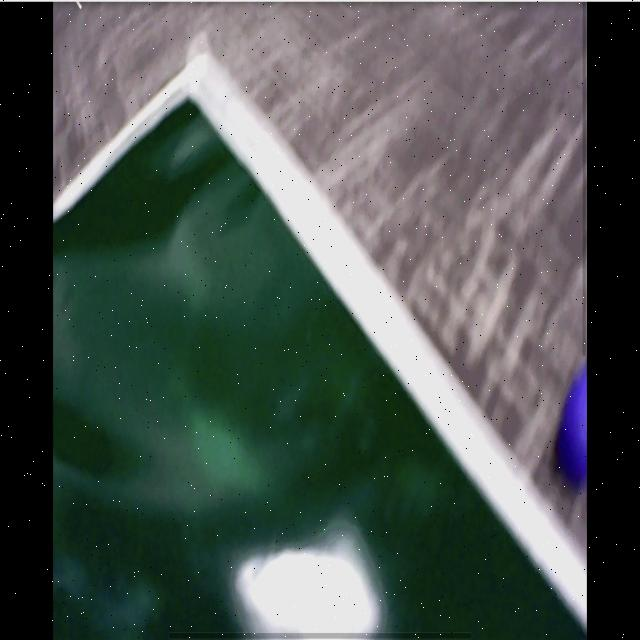ball: (558, 372, 589, 489)
